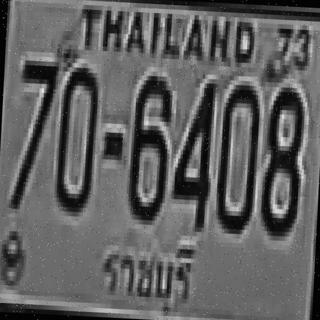N00: (52, 62, 98, 213), (214, 80, 260, 230)
N04: (170, 78, 216, 228)
N06: (125, 70, 171, 221)
N07: (10, 55, 58, 206)
N08: (258, 82, 304, 232)
P52: (94, 237, 200, 320)
